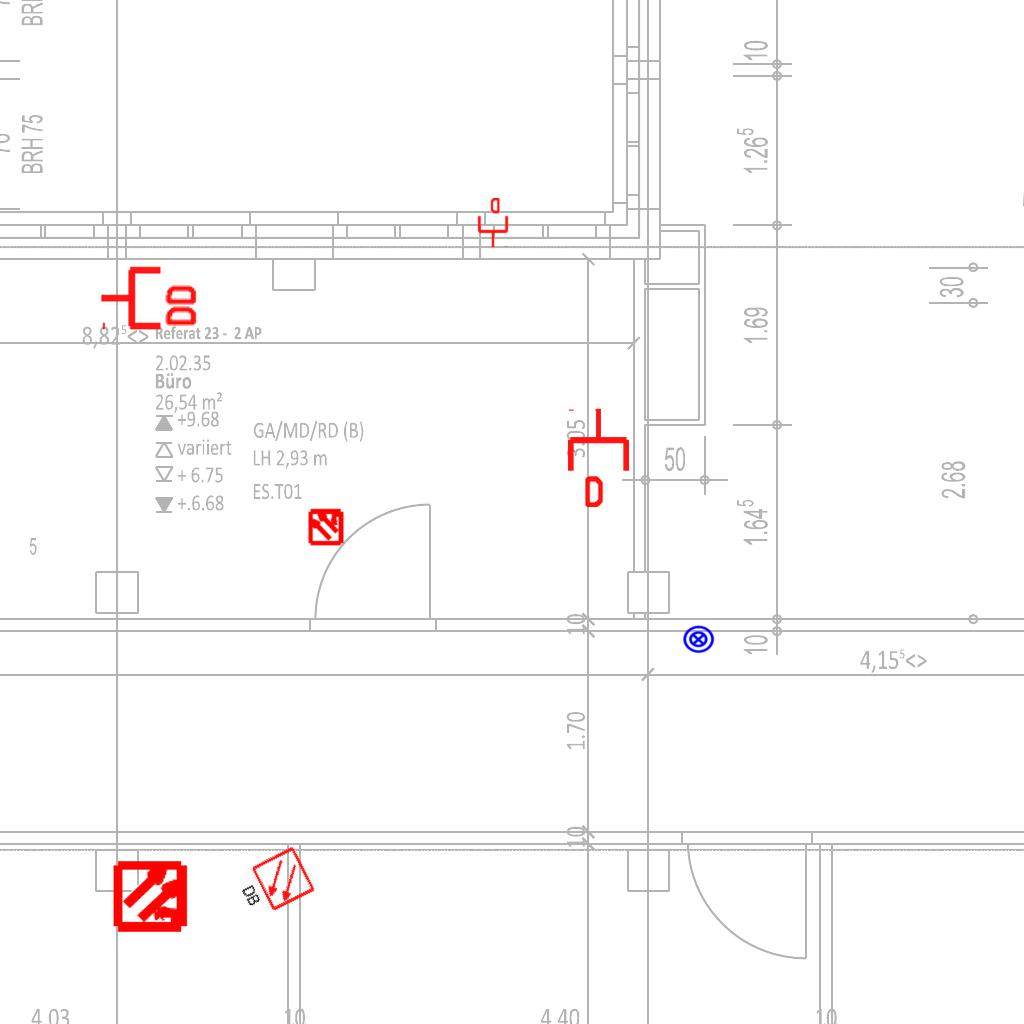DB_Melder_in_Doppelboden_mit_Revisionsoeffnung_mind_40_x_40_cm: (228, 841, 321, 927)
Datenanschluss_einfach: (564, 407, 633, 507), (476, 198, 510, 248)
Datenanschluss_zweifach: (98, 262, 201, 331)
OT_Multisensormelder_(Kombination_RMO_WMD): (96, 840, 209, 953), (298, 498, 354, 554)
Taster_beleuchtet: (682, 623, 715, 656)
